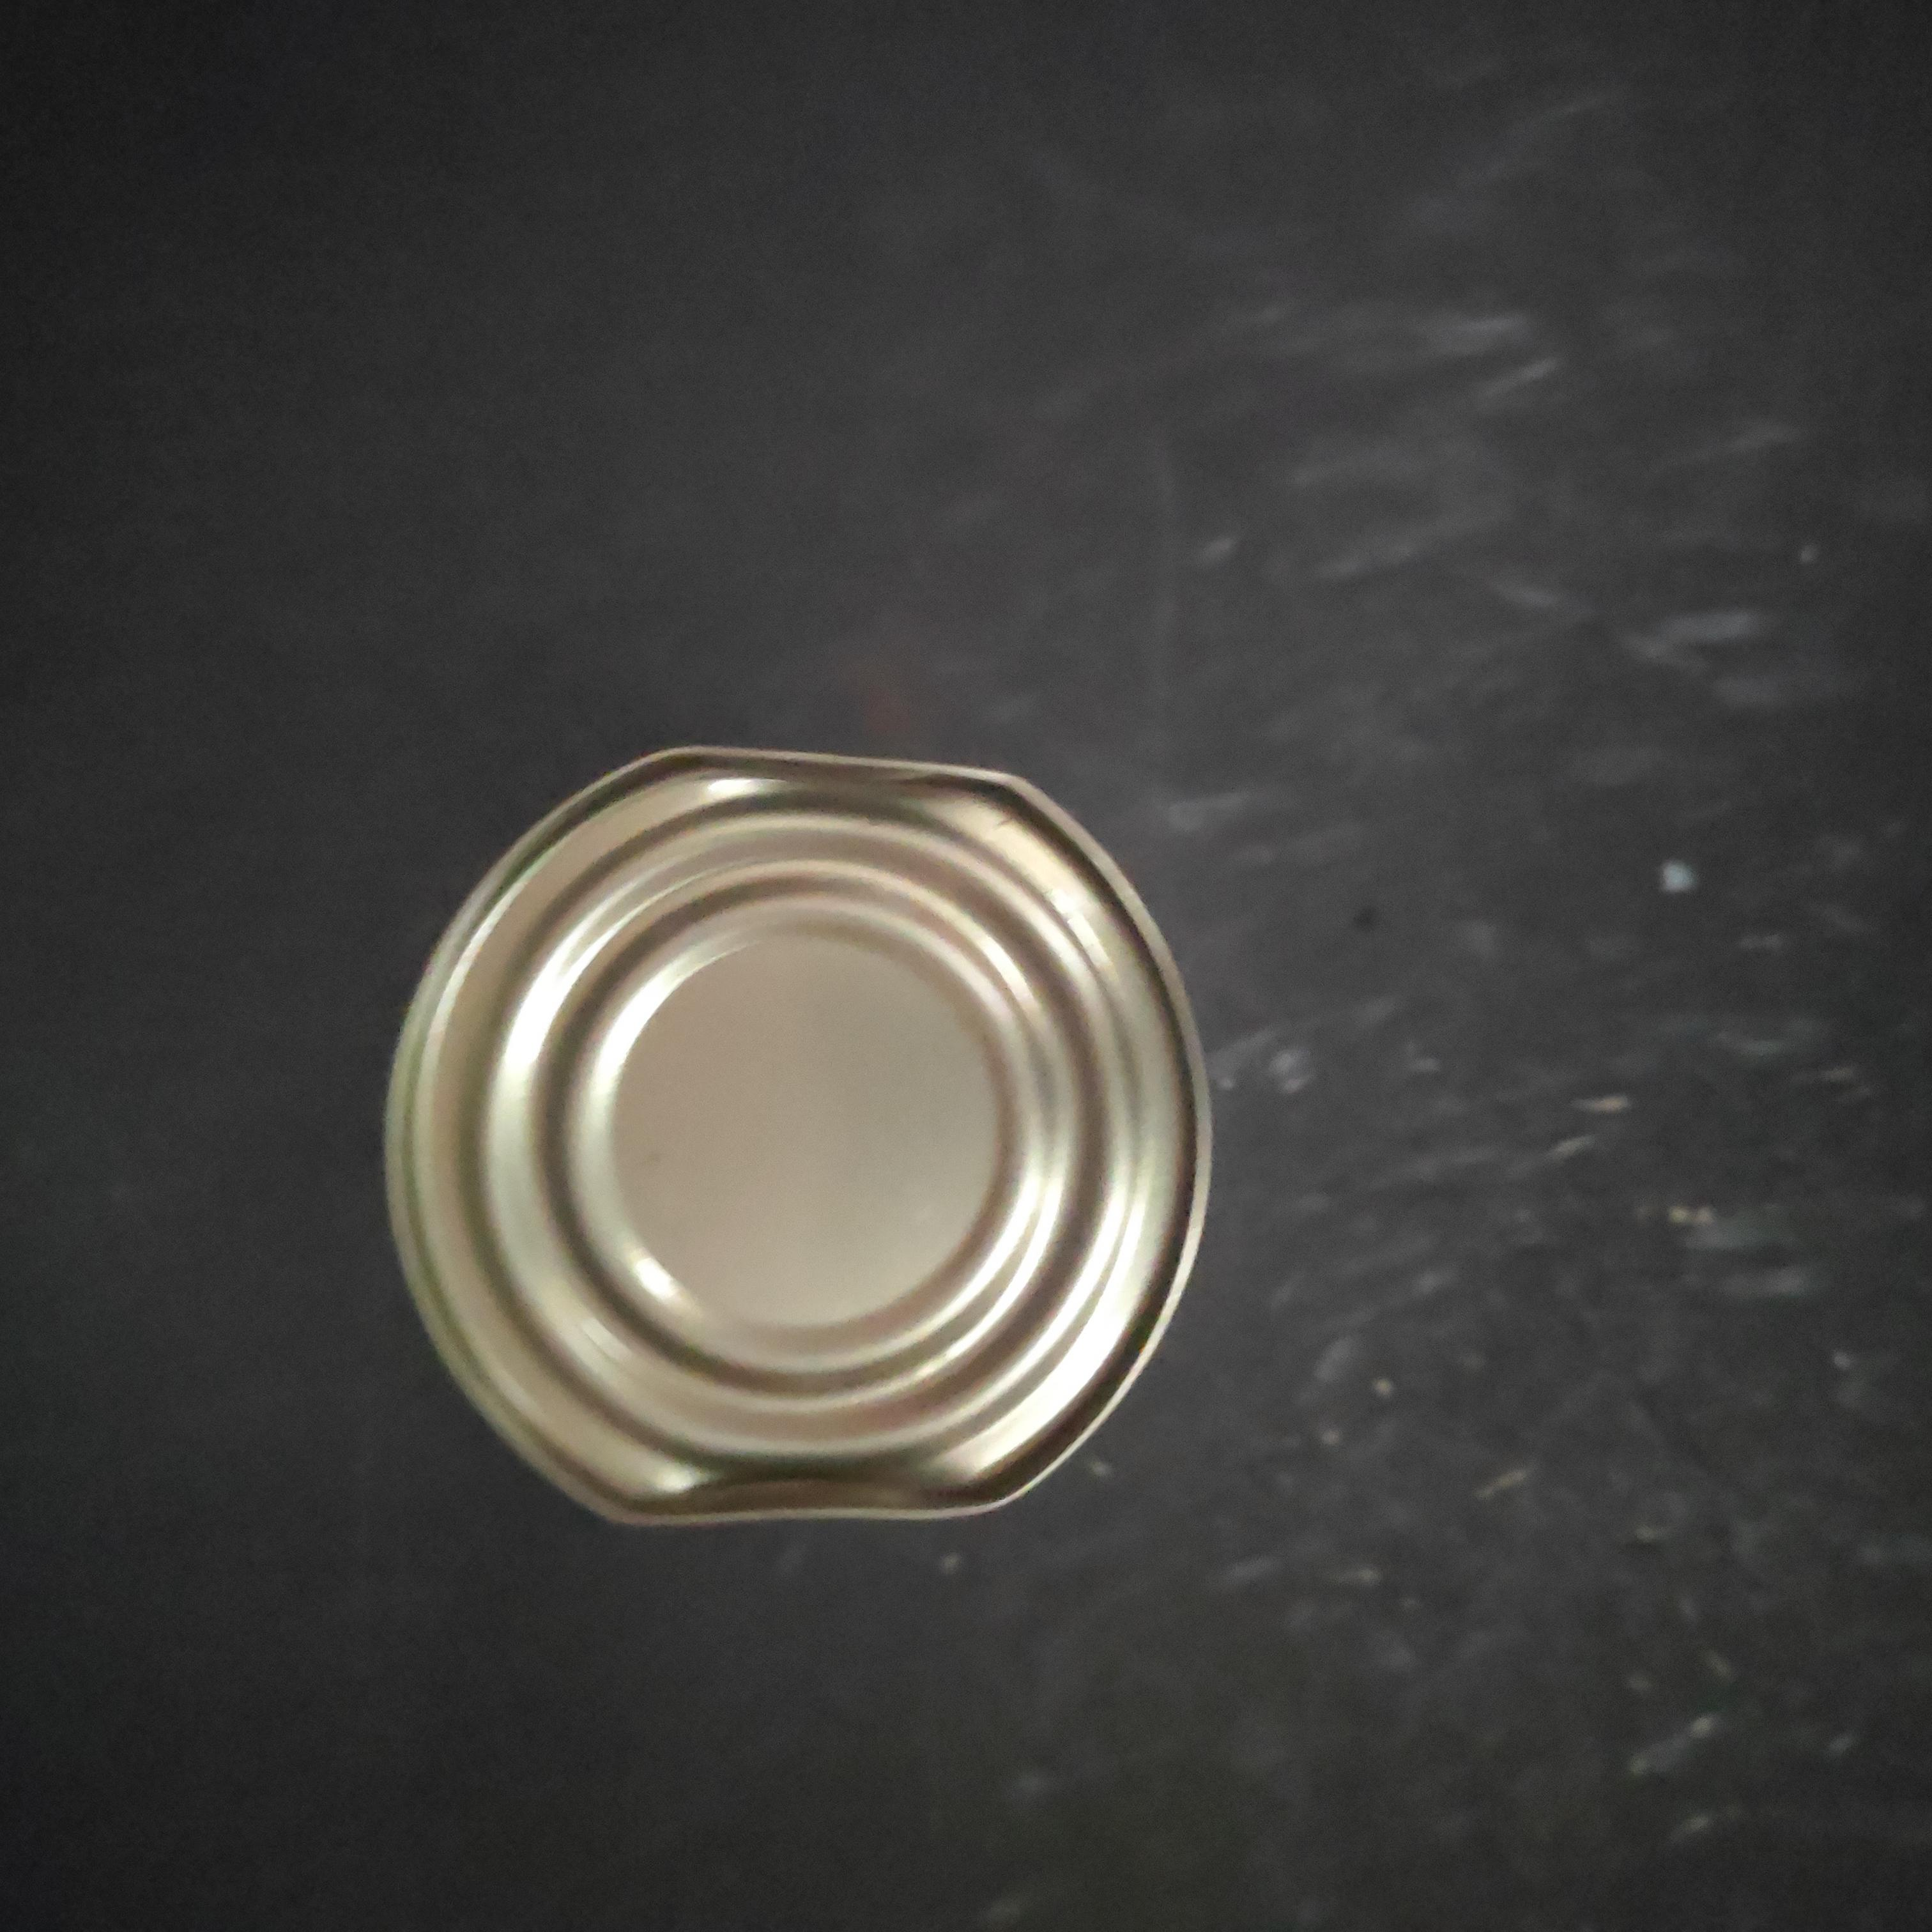Minor Defect: (710, 394, 1569, 1201)
